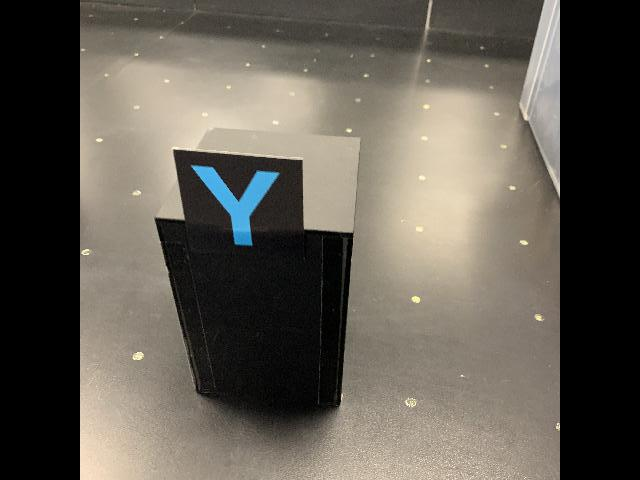y: (172, 146, 308, 267)
